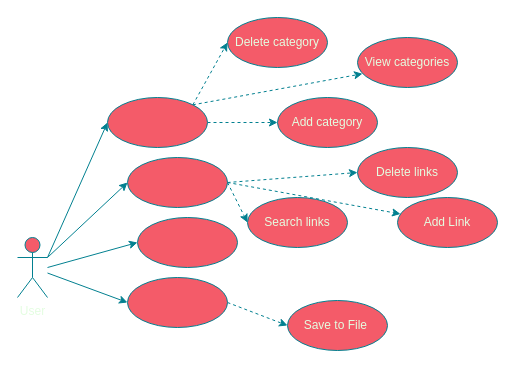
Some shapes in this 515 by 368 pixel diagram are drawn without their labels. Each missing label, with the centre of its shape:
"Export References" goes at (x=177, y=302).
"Manage categories" goes at (x=157, y=122).
"Manage links" goes at (x=177, y=182).
"View links" goes at (x=187, y=242).
